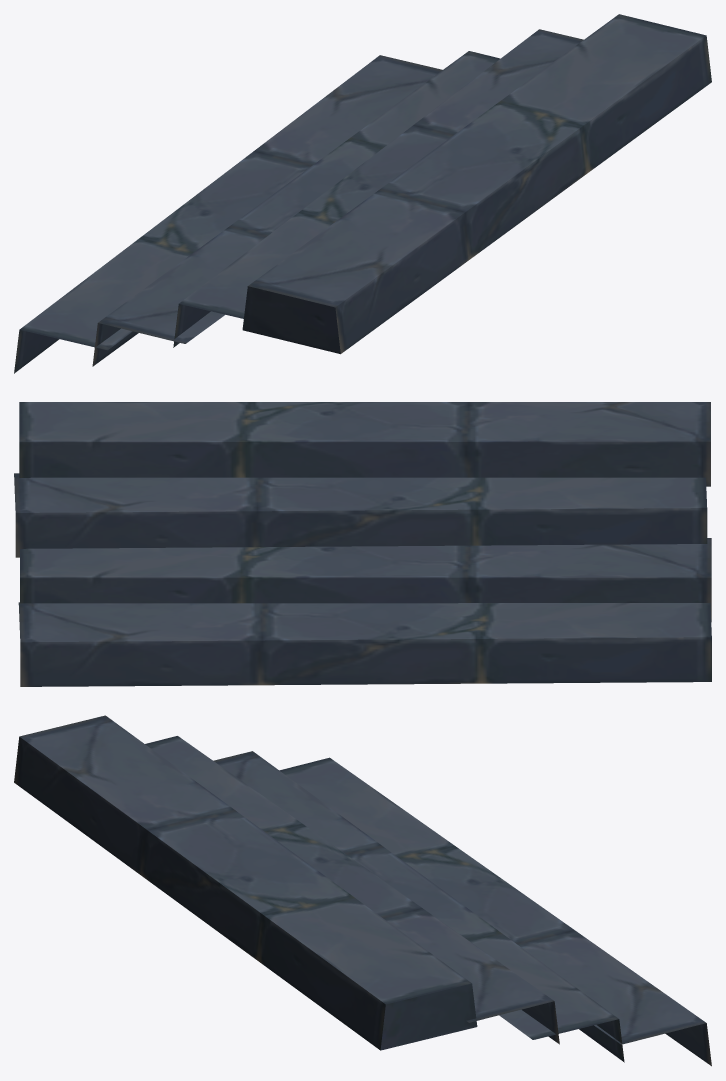
The model's file is Area_08_23.fbx.
The picture shows the model from 3 angles, top to bottom: view 1: azimuth 30°, elevation 25°; view 2: azimuth 150°, elevation 25°; view 3: azimuth 270°, elevation 25°; orthographic projection. The views are drawn at different scales.
Visible parts, largest first — view 1: Area_08_23; view 2: Area_08_23; view 3: Area_08_23.
Part boxes in pixels (x1,y1,x2,y2): Area_08_23: [14, 14, 711, 373]; Area_08_23: [14, 402, 711, 686]; Area_08_23: [14, 715, 711, 1066].
Size of the model in its own units: 496 by 94.9 by 422.
